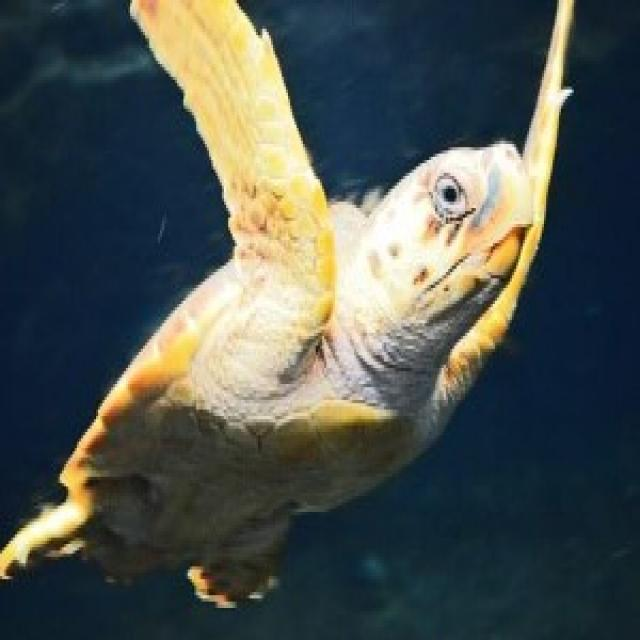Sea turtle: (0, 0, 579, 626)
